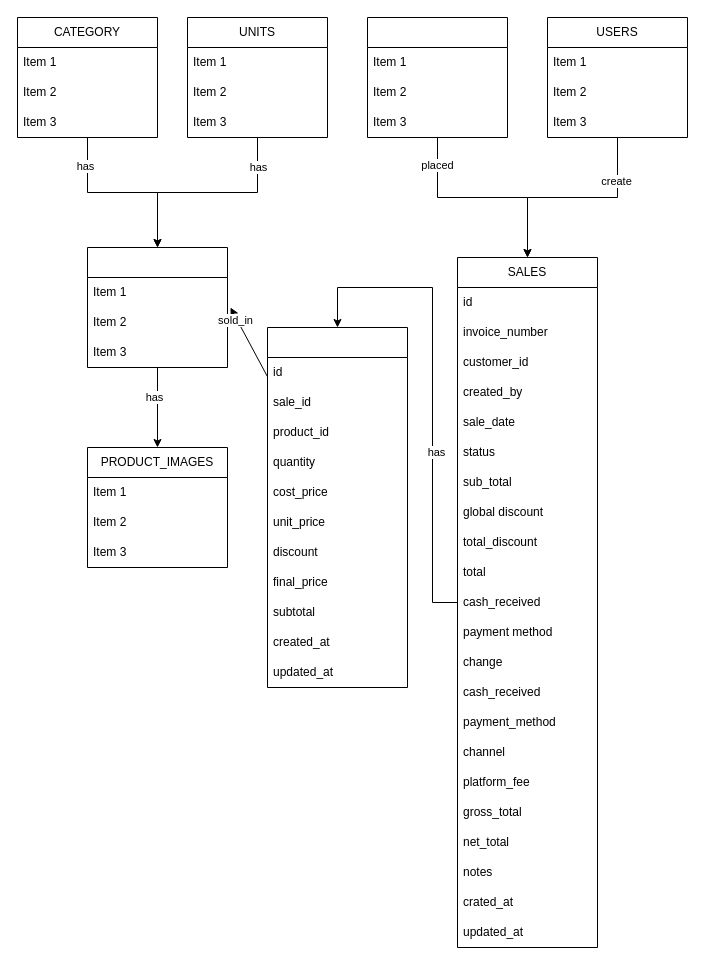
Some shapes in this 705 by 965 pixel diagram are drawn without their labels. Here are the shapes that lost their labels. From the top down, the box of each, then its label:
(366, 16, 508, 138): CUSTOMERS
(86, 246, 228, 368): PRODUCTS
(266, 326, 408, 688): SALE_ITEMS
